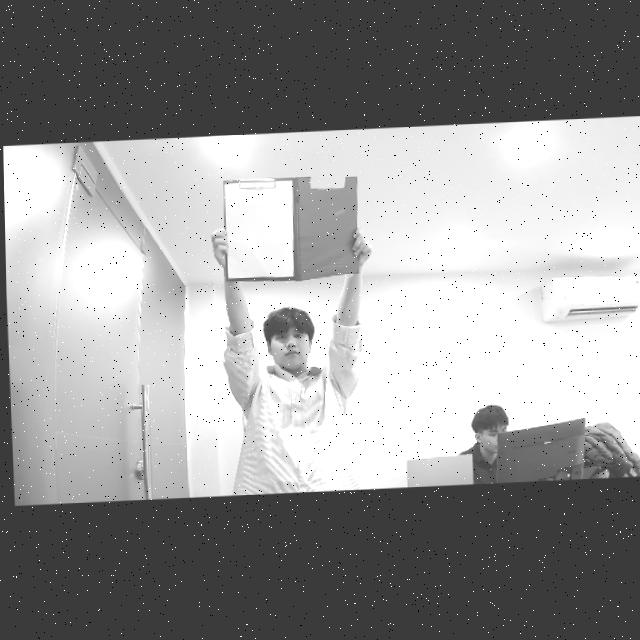face: (272, 318, 312, 366)
